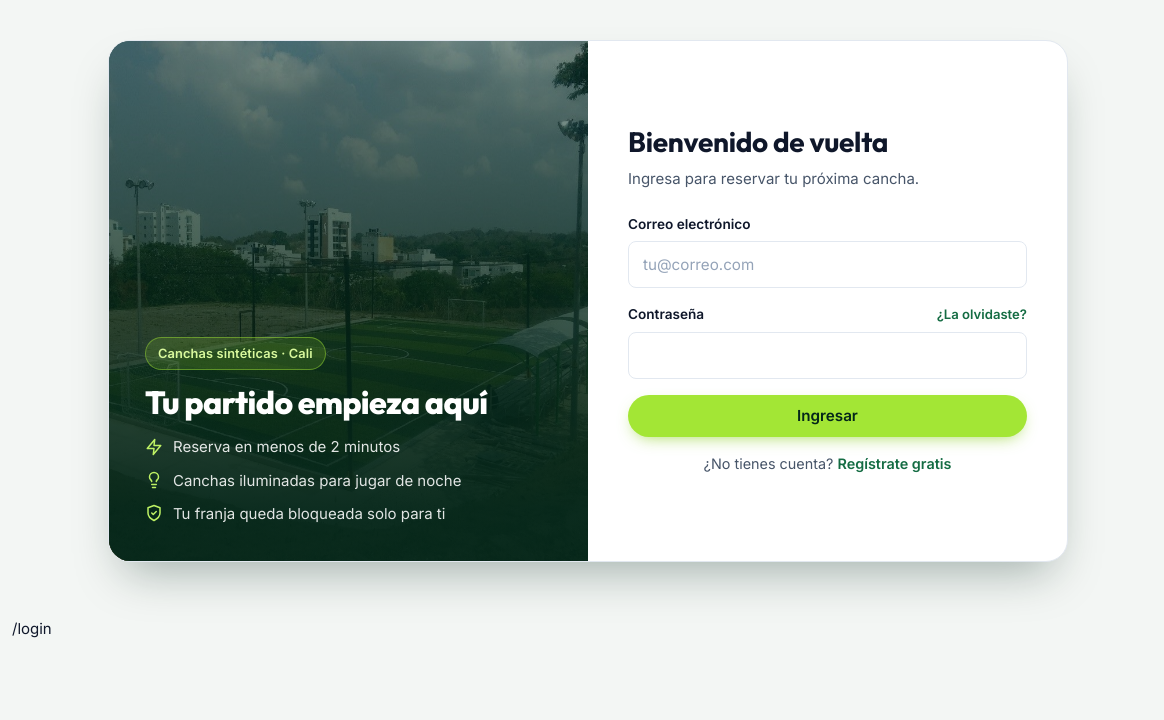
LoginPage › muestra el error del servidor y no inicia sesión
The width and height of the screenshot is (1164, 720).
In the field labelled "Correo electrónico": [828, 265] box [628,241,1027,288], type "ana@correo.com"
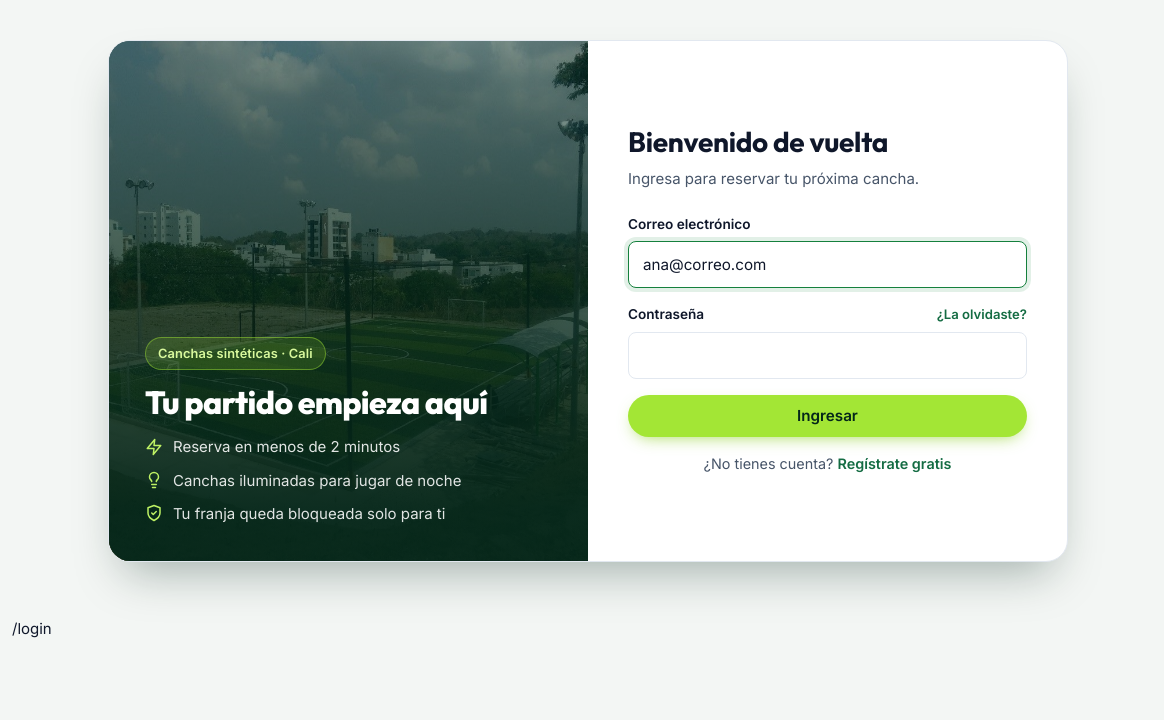
In the password field labelled "Contraseña": [828, 355] box [628,332,1027,379], type "Clave1234"
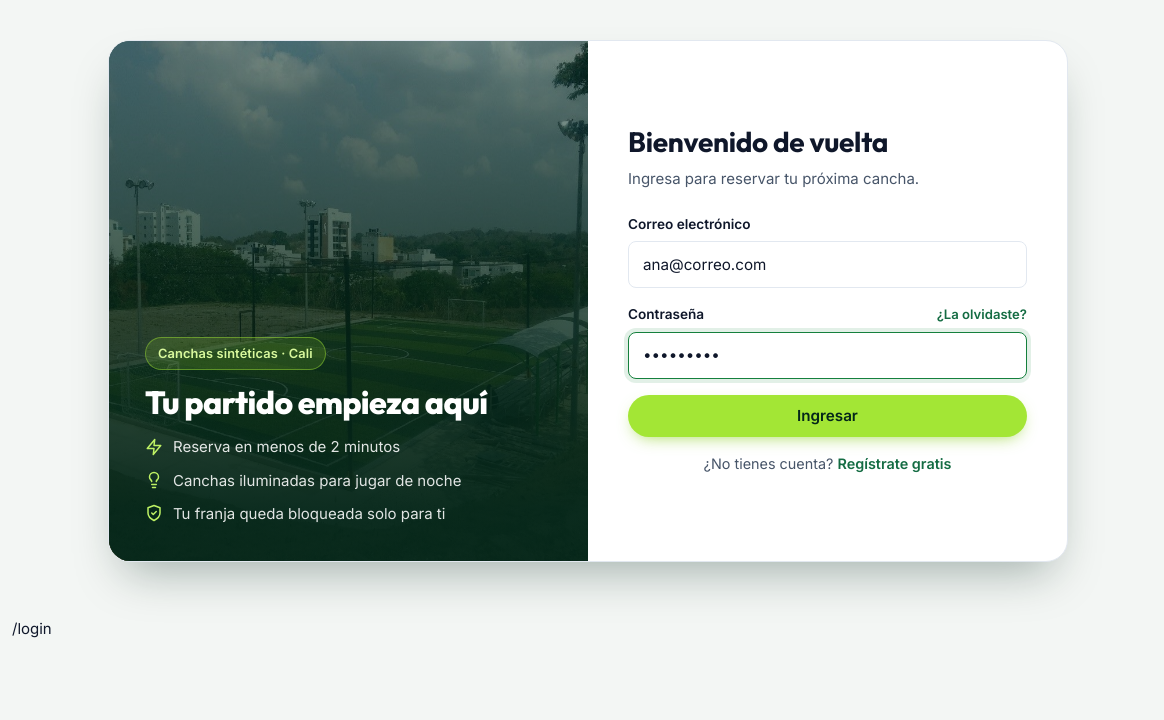
Click the button "Ingresar": [828, 416] box [628,395,1027,437]
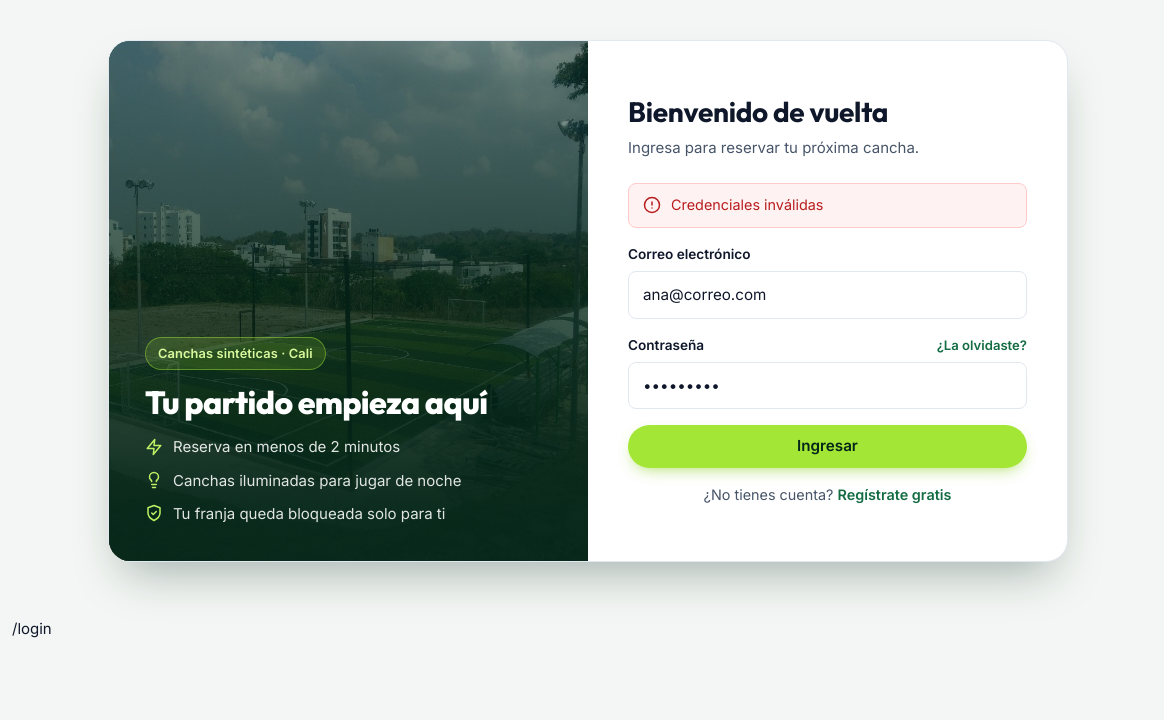
expect the message reads "Credenciales inválidas": met, box [671,196,823,213]
